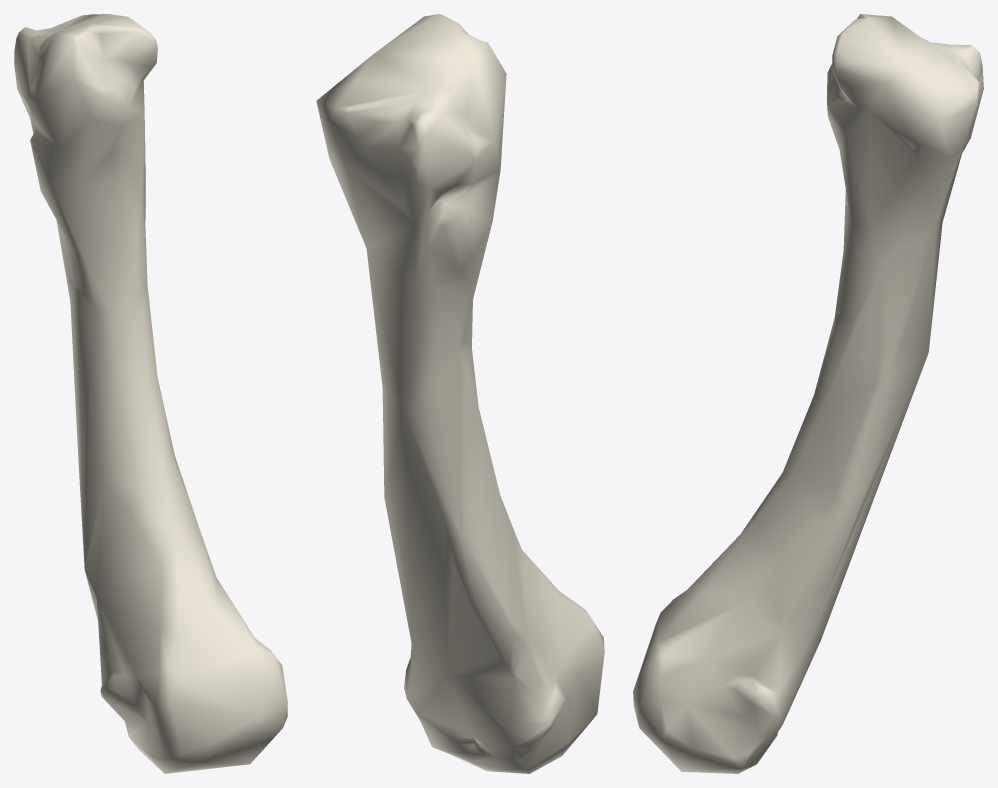
3 renders of one model, left to right at view 1: azimuth 30°, elevation 25°; view 2: azimuth 150°, elevation 25°; view 3: azimuth 270°, elevation 25°, orthographic. The views are drawn at different scales.
Visible parts, largest first — view 1: ZA_d885ef7d1a0584ad; view 2: ZA_d885ef7d1a0584ad; view 3: ZA_d885ef7d1a0584ad.
Boxes of the visible parts, <box> form: ZA_d885ef7d1a0584ad: <box>14,14,287,773</box>; ZA_d885ef7d1a0584ad: <box>316,14,604,773</box>; ZA_d885ef7d1a0584ad: <box>633,14,983,773</box>.
Size of the model in its own units: 0.0131 by 0.0621 by 0.0271.
